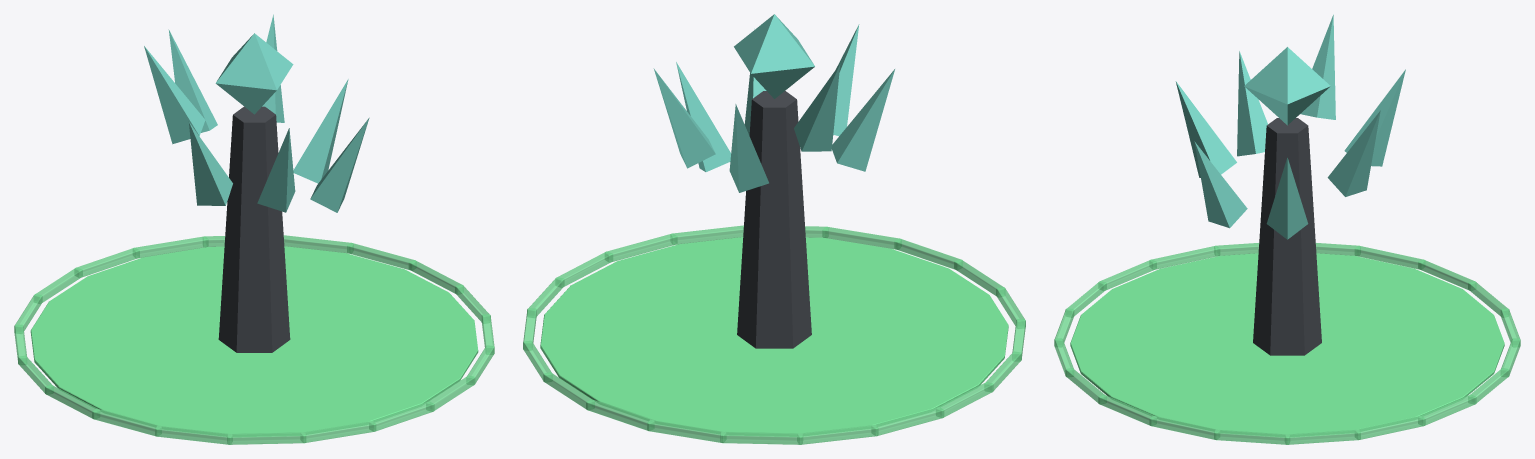
The model's file is crystal_sanctum.glb.
The picture shows the model from 3 angles, left to right: view 1: azimuth 30°, elevation 25°; view 2: azimuth 150°, elevation 25°; view 3: azimuth 270°, elevation 25°; orthographic projection. The views are drawn at different scales.
Parts seen in each view (by area): view 1: heal_floor, trunk, crown, canopy_4, canopy_3, canopy_0, canopy_1, canopy_2, canopy_5, heal_zone_6, heal_zone_7, heal_zone_5 (+15 smaller); view 2: heal_floor, trunk, crown, canopy_3, canopy_4, canopy_6, canopy_5, canopy_0, canopy_2, heal_zone_13, heal_zone_12, heal_zone_14 (+14 smaller); view 3: heal_floor, trunk, crown, canopy_6, canopy_1, canopy_3, canopy_2, canopy_0, canopy_4, canopy_5, heal_zone_0, heal_zone_19 (+14 smaller).
Part boxes in pixels (bbox=[...]): heal_floor: bbox=[30, 246, 478, 436]; trunk: bbox=[218, 106, 290, 352]; crown: bbox=[215, 33, 293, 114]; canopy_4: bbox=[144, 46, 205, 144]; canopy_3: bbox=[189, 122, 232, 205]; canopy_0: bbox=[293, 79, 348, 183]; canopy_1: bbox=[310, 117, 369, 212]; canopy_2: bbox=[257, 128, 295, 212]; canopy_5: bbox=[168, 29, 217, 132]; heal_zone_6: bbox=[227, 432, 305, 444]; heal_zone_7: bbox=[155, 425, 232, 444]; heal_zone_5: bbox=[300, 421, 375, 443]; heal_floor: bbox=[540, 237, 1008, 436]; trunk: bbox=[737, 91, 811, 348]; crown: bbox=[734, 14, 814, 98]; canopy_3: bbox=[832, 69, 894, 171]; canopy_4: bbox=[794, 64, 840, 151]; canopy_6: bbox=[653, 68, 715, 168]; canopy_5: bbox=[729, 104, 768, 192]; canopy_0: bbox=[676, 62, 730, 171]; canopy_2: bbox=[833, 24, 859, 136]; heal_zone_13: bbox=[720, 431, 802, 444]; heal_zone_12: bbox=[797, 425, 878, 444]; heal_zone_14: bbox=[647, 419, 726, 442]; heal_floor: bbox=[1070, 253, 1504, 436]; trunk: bbox=[1253, 118, 1321, 355]; crown: bbox=[1244, 47, 1330, 125]; canopy_6: bbox=[1327, 110, 1380, 196]; canopy_1: bbox=[1194, 141, 1247, 228]; canopy_3: bbox=[1237, 51, 1267, 156]; canopy_2: bbox=[1175, 81, 1236, 177]; canopy_0: bbox=[1266, 157, 1308, 239]; canopy_4: bbox=[1300, 14, 1335, 119]; canopy_5: bbox=[1344, 69, 1405, 166]; heal_zone_0: bbox=[1214, 429, 1289, 444]; heal_zone_19: bbox=[1285, 429, 1360, 444].
Bounding box in the file's own units: 2.68 × 1.91 × 2.68.
